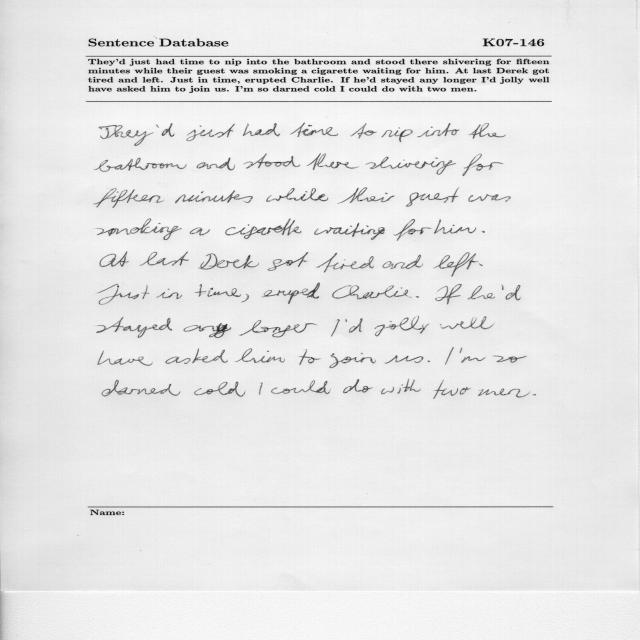word: (97, 219, 182, 240), (365, 157, 456, 175), (97, 317, 172, 338), (225, 219, 301, 239), (94, 188, 164, 208), (102, 380, 180, 397), (240, 320, 317, 337), (95, 158, 187, 172), (261, 283, 320, 304), (314, 223, 385, 240), (99, 125, 153, 146), (434, 252, 479, 277), (332, 286, 412, 300), (316, 253, 374, 272), (375, 317, 429, 337), (98, 284, 149, 305), (175, 191, 253, 204), (165, 348, 228, 364), (406, 188, 459, 207), (198, 254, 259, 270), (337, 188, 395, 204), (463, 154, 504, 176), (307, 153, 359, 170), (267, 188, 329, 202), (98, 350, 152, 366), (243, 154, 300, 169), (271, 380, 331, 394), (186, 124, 235, 141), (394, 219, 431, 241), (194, 382, 245, 397), (268, 252, 308, 271), (235, 348, 285, 363), (433, 380, 471, 399), (184, 323, 232, 338), (329, 353, 376, 368), (440, 317, 494, 330), (139, 252, 189, 266), (290, 123, 338, 137), (434, 219, 476, 234), (381, 379, 421, 394), (195, 284, 241, 297), (469, 123, 506, 139), (417, 123, 459, 137), (382, 255, 423, 269), (435, 284, 462, 304), (196, 158, 235, 171), (243, 123, 280, 136), (381, 128, 413, 143), (478, 389, 530, 398), (459, 347, 486, 363), (100, 252, 128, 267), (343, 379, 373, 393), (351, 124, 377, 139), (468, 286, 495, 300), (384, 355, 424, 364), (299, 349, 321, 365), (468, 194, 511, 202), (501, 285, 521, 301), (345, 318, 363, 333), (156, 123, 175, 137), (156, 289, 182, 299), (493, 356, 527, 363), (331, 319, 340, 337), (445, 347, 454, 365), (190, 228, 210, 236), (241, 294, 249, 302), (259, 382, 263, 395), (479, 264, 483, 266), (482, 231, 485, 233), (416, 296, 419, 298), (428, 360, 430, 362), (533, 394, 536, 395)
